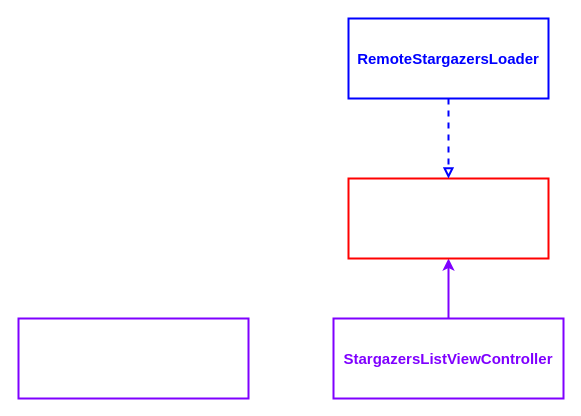
The diagram is 581 pixels wide and 416 high, and some of its shapes have lost their labels. Here are the shapes that lost their labels. From the top down, the centre of each, then its label:
the point at 448,218: <StargazersLoader>
the point at 133,358: InsertRepoInfoViewController
